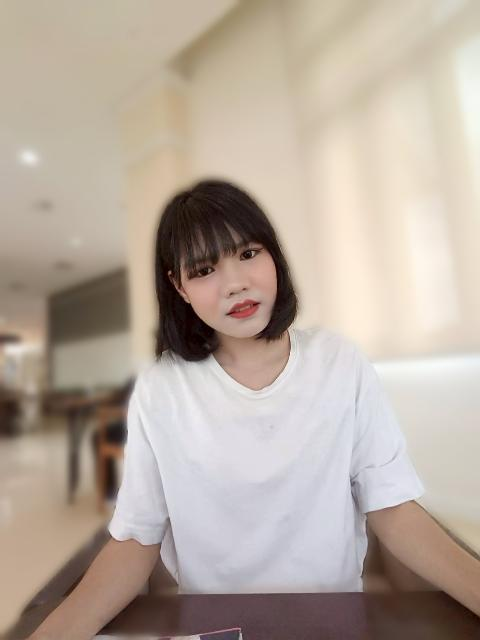fokus: (163, 200, 279, 339)
